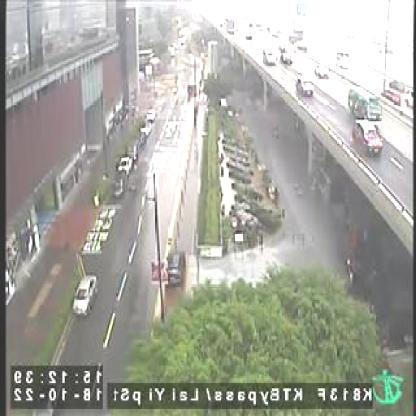Car: (350, 118, 383, 158), (71, 275, 98, 318), (166, 249, 187, 288), (295, 72, 315, 100), (110, 174, 126, 201), (261, 45, 276, 67), (277, 48, 292, 65), (313, 63, 329, 78), (146, 109, 158, 124)
Minibus: (346, 86, 382, 122)
Truck: (333, 46, 351, 71)
